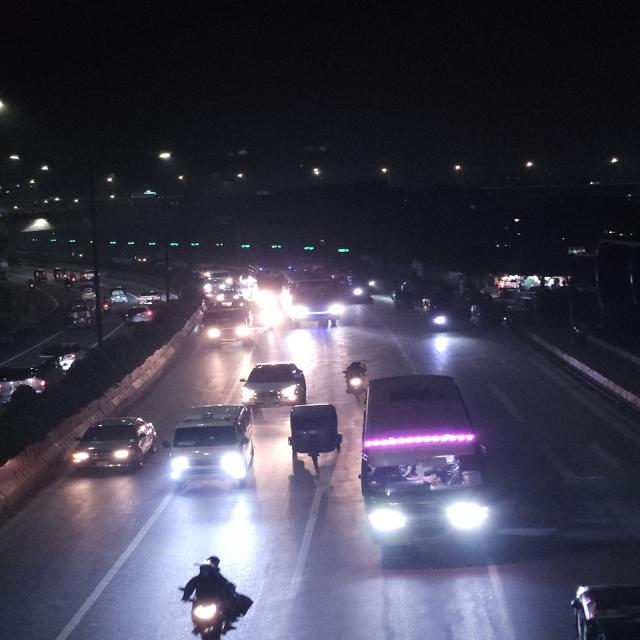bus: (354, 369, 495, 568), (279, 261, 347, 329)
car: (168, 402, 258, 494), (66, 413, 160, 479), (240, 359, 308, 407), (1, 356, 66, 399), (38, 339, 93, 371), (122, 302, 156, 326), (134, 289, 162, 305)
cng: (284, 401, 343, 471), (67, 299, 96, 325), (107, 285, 128, 305), (78, 282, 98, 300)
motorcycle: (165, 551, 264, 640), (339, 358, 370, 396), (423, 299, 454, 335)
pickup_van: (284, 401, 343, 470)
truck: (558, 579, 640, 640), (202, 299, 260, 351)
